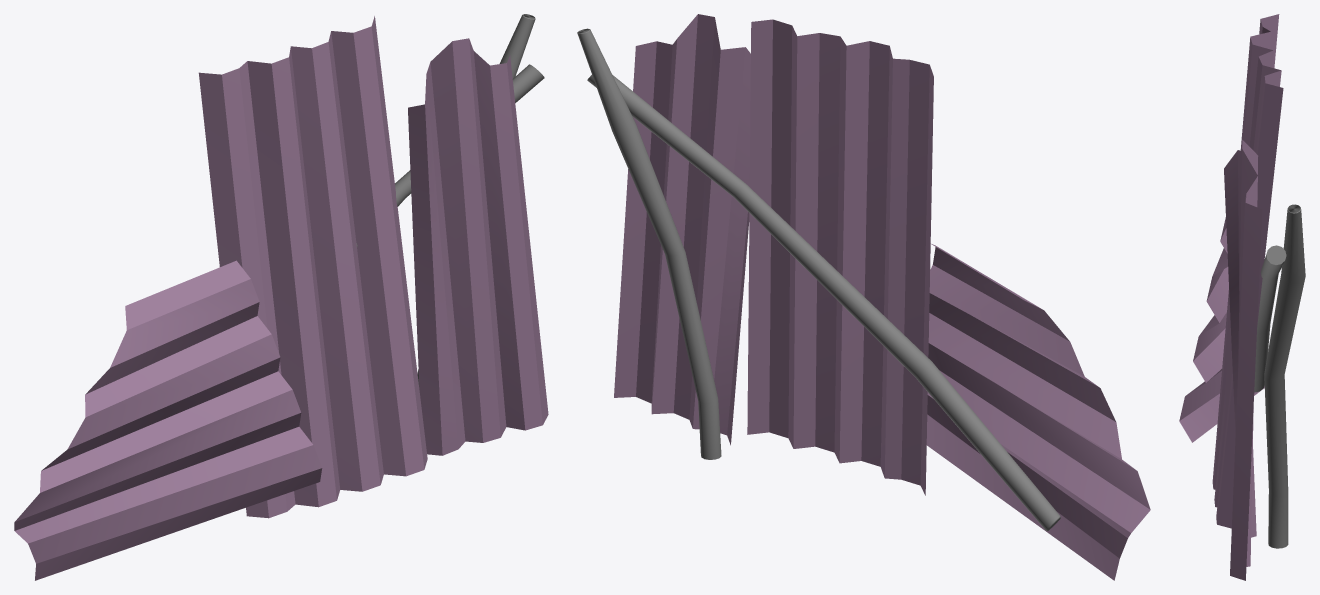
Rendered from Baricade_01_05.fbx.
3 views of the same model, side by side, from view 1: azimuth 30°, elevation 25°; view 2: azimuth 150°, elevation 25°; view 3: azimuth 270°, elevation 25° (orthographic). The views are drawn at different scales.
Parts seen in each view (by area): view 1: Baricade_01_05; view 2: Baricade_01_05; view 3: Baricade_01_05.
Boxes of the visible parts, x1,y1,x2,y2 form: Baricade_01_05: (14,14,548,580); Baricade_01_05: (577,14,1150,580); Baricade_01_05: (1179,14,1305,580).
Size of the model in its own units: 347 by 289 by 70.74.
